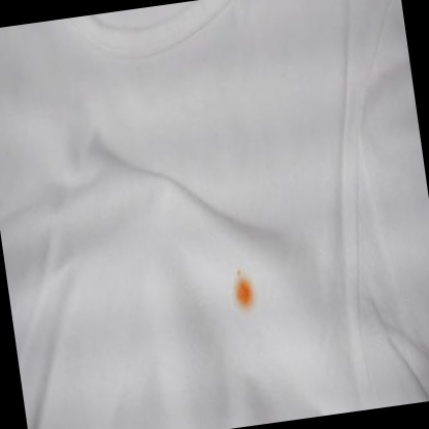kimchi: (225, 264, 258, 314)
